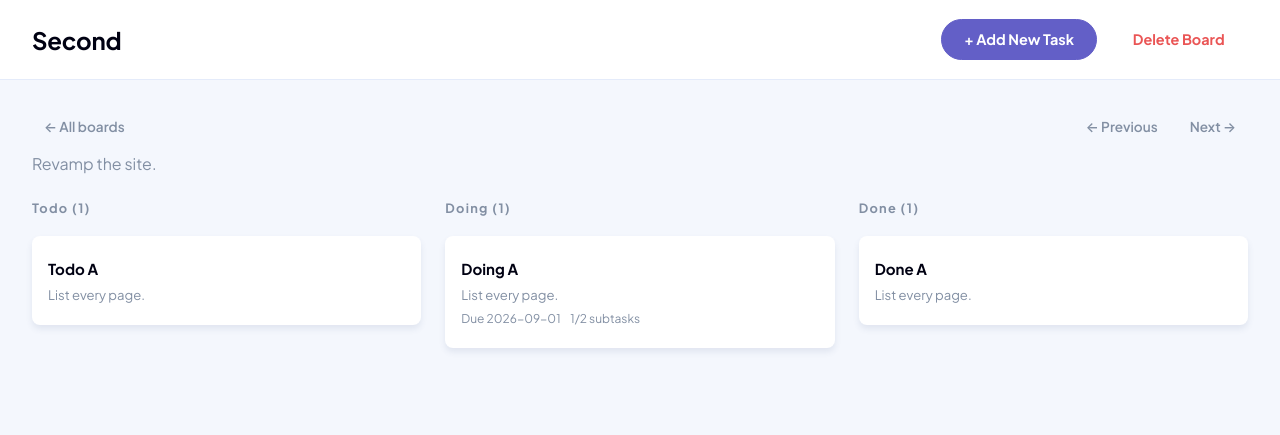
BoardDetailComponent (services mocked) › deleting the board › stays on the page and shows the error if the delete fails
Click the button "Delete Board" at (1179, 40), box [1109,19,1248,60]
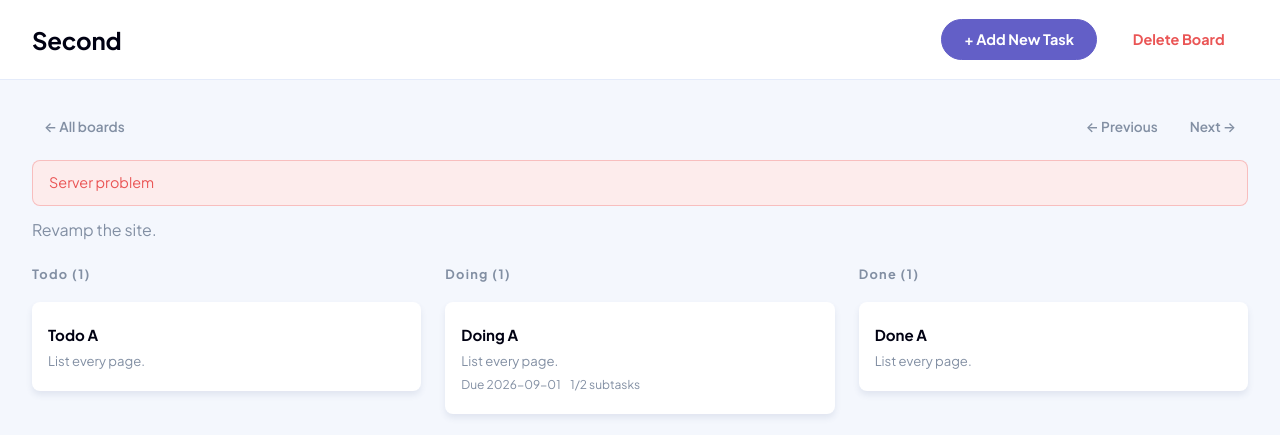
Check: the text "Server problem" is shown, box [32,160,1248,206]
